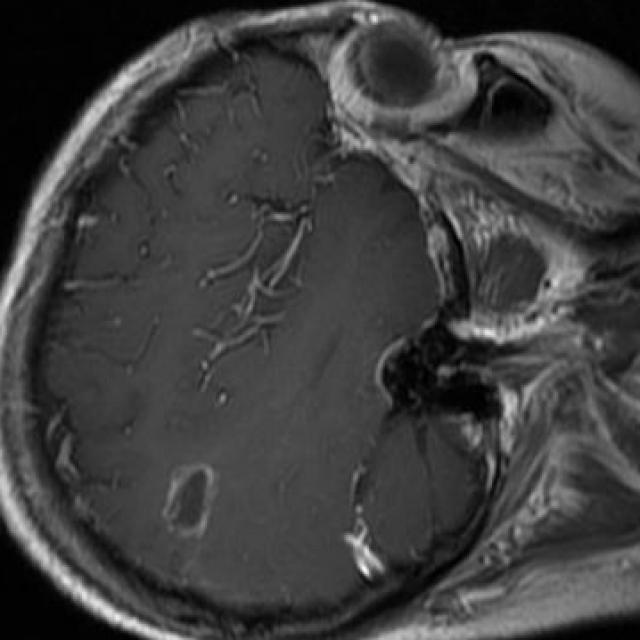glioma: (164, 462, 216, 533)
